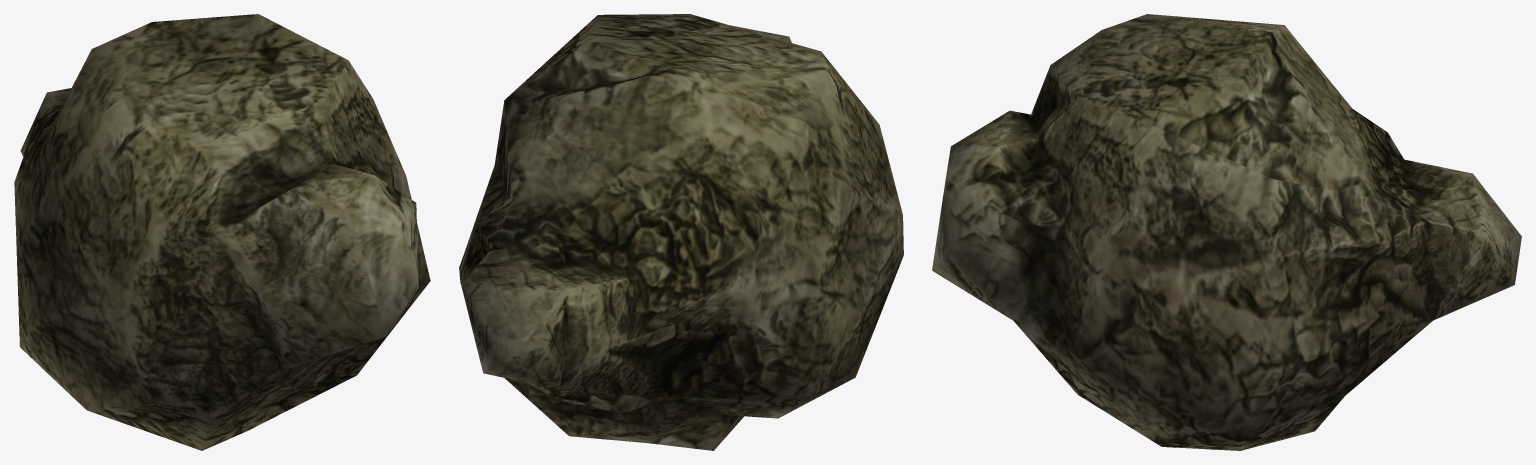
Rendered from MEP_Rock_01.fbx.
3 renders of one model, left to right at view 1: azimuth 30°, elevation 25°; view 2: azimuth 150°, elevation 25°; view 3: azimuth 270°, elevation 25°, orthographic.
Visible parts, largest first — view 1: MEP_Rock_01; view 2: MEP_Rock_01; view 3: MEP_Rock_01.
Part boxes in pixels (left/top/right/bottom): MEP_Rock_01: left=14, top=14, right=430, bottom=450; MEP_Rock_01: left=459, top=14, right=903, bottom=450; MEP_Rock_01: left=932, top=14, right=1521, bottom=450.
Bounding box in the file's own units: 18.21 × 18.27 × 25.67.
